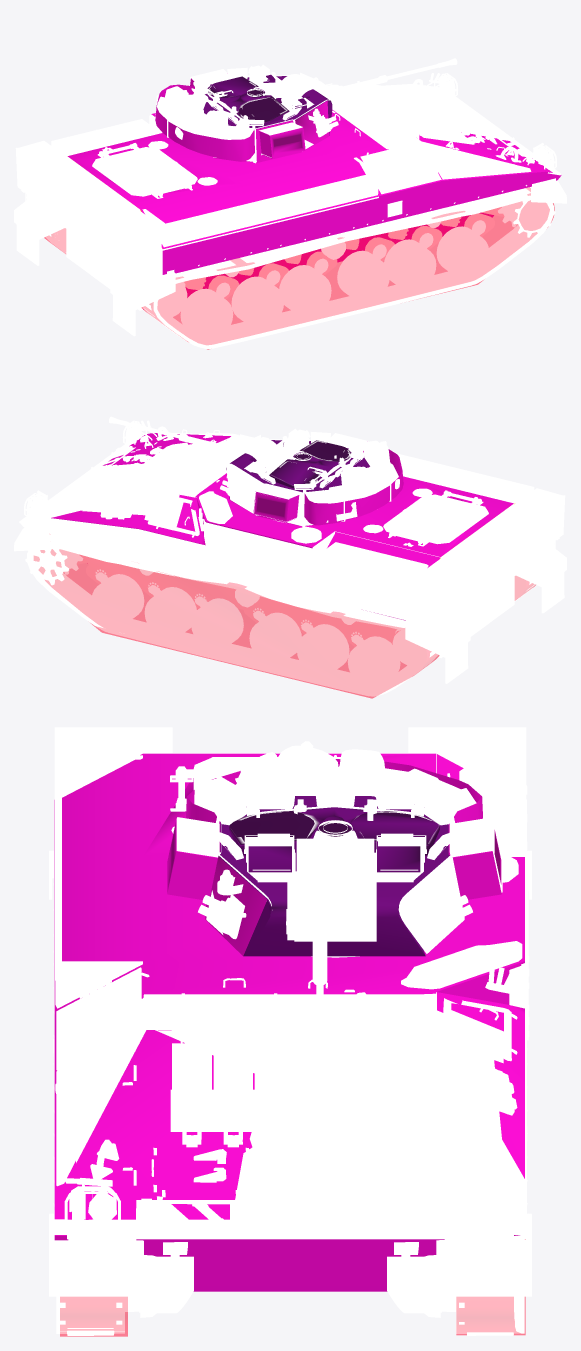
The picture shows the model from 3 angles, top to bottom: view 1: azimuth 30°, elevation 25°; view 2: azimuth 150°, elevation 25°; view 3: azimuth 270°, elevation 25°; orthographic projection. The views are drawn at different scales.
Visible parts, largest first — view 1: 29_3, FV510_trackright_col_32, FV510_col, 29_2, 29_4, FV510_turret_col_1, 29_1, FV510_turret_col, 29_7, FV510_col_2, 29_6; view 2: 29_3, FV510_trackleft_col_29, 29, FV510_col, 29_4, FV510_turret_col_1, FV510_turret_col, 29_7, 29_1, 29_6, FV510_col_2; view 3: 29_3, FV510_col, FV510_col_2, 29_4, FV510_turret_col, 29_7, FV510_turret_col_1, 29_6, 29, 29_2, FV510_trackright_col_32, FV510_trackleft_col_29.
Boxes of the visible parts, bbox=[...] form: 29_3: bbox=[14, 73, 566, 341]; FV510_trackright_col_32: bbox=[141, 187, 554, 349]; FV510_col: bbox=[67, 110, 561, 309]; 29_2: bbox=[143, 187, 554, 348]; 29_4: bbox=[156, 64, 338, 163]; FV510_turret_col_1: bbox=[155, 78, 328, 162]; 29_1: bbox=[167, 177, 375, 244]; FV510_turret_col: bbox=[203, 74, 332, 135]; 29_7: bbox=[155, 86, 249, 139]; FV510_col_2: bbox=[419, 132, 552, 172]; 29_6: bbox=[300, 58, 457, 108]; 29_3: bbox=[14, 420, 566, 688]; FV510_trackleft_col_29: bbox=[34, 549, 439, 698]; 29: bbox=[26, 533, 437, 696]; FV510_col: bbox=[51, 473, 513, 620]; 29_4: bbox=[220, 428, 391, 527]; FV510_turret_col_1: bbox=[230, 449, 403, 526]; FV510_turret_col: bbox=[226, 440, 369, 498]; 29_7: bbox=[311, 440, 399, 522]; 29_1: bbox=[399, 457, 527, 501]; 29_6: bbox=[109, 416, 260, 469]; FV510_col_2: bbox=[103, 433, 230, 465]; 29_3: bbox=[49, 727, 531, 1327]; FV510_col: bbox=[54, 753, 524, 1240]; FV510_col_2: bbox=[54, 1030, 519, 1291]; 29_4: bbox=[176, 755, 502, 957]; FV510_turret_col: bbox=[218, 796, 449, 956]; 29_7: bbox=[194, 741, 476, 811]; FV510_turret_col_1: bbox=[167, 759, 501, 955]; 29_6: bbox=[286, 881, 375, 1053]; 29: bbox=[456, 1296, 524, 1335]; 29_2: bbox=[56, 1296, 124, 1335]; FV510_trackright_col_32: bbox=[60, 1297, 127, 1336]; FV510_trackleft_col_29: bbox=[456, 1239, 525, 1335].
Bounding box in the file's own units: 6.19 × 3.14 × 3.
